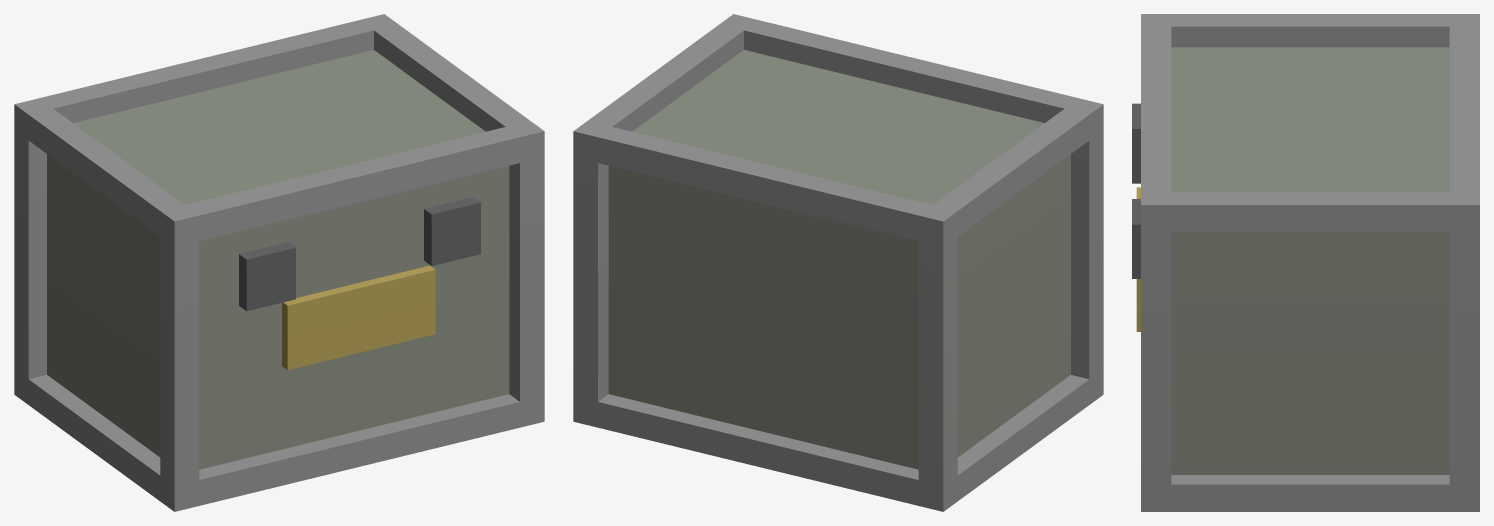
Rendered from crateS_steel.glb.
3 views of the same model, side by side, from view 1: azimuth 30°, elevation 25°; view 2: azimuth 150°, elevation 25°; view 3: azimuth 270°, elevation 25° (orthographic). The views are drawn at different scales.
Parts seen in each view (by area): view 1: crateS_steel; view 2: crateS_steel; view 3: crateS_steel.
Part boxes in pixels (x1,y1,x2,y2): crateS_steel: (14, 14, 544, 511); crateS_steel: (573, 14, 1103, 511); crateS_steel: (1132, 14, 1479, 511).
Size of the model in its own units: 0.6 by 0.45 by 0.462.
